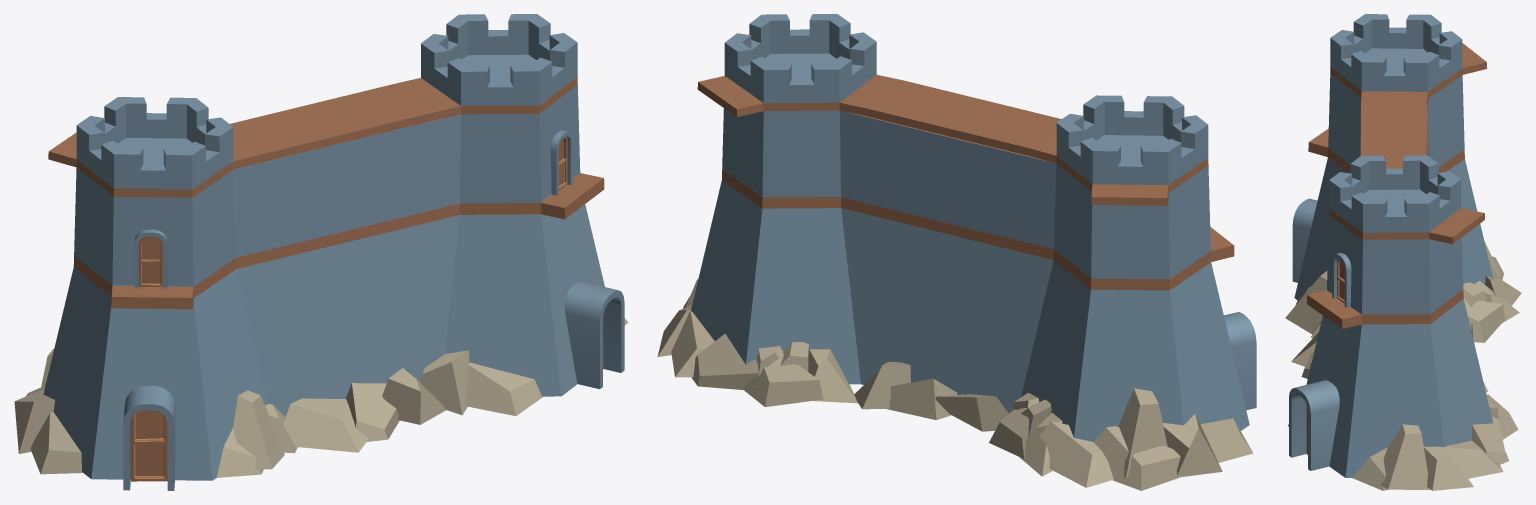
Rendered from Outpost_Twin.fbx.
3 renders of one model, left to right at view 1: azimuth 30°, elevation 25°; view 2: azimuth 150°, elevation 25°; view 3: azimuth 270°, elevation 25°, orthographic. The views are drawn at different scales.
Parts seen in each view (by area): view 1: Outpost Twin; view 2: Outpost Twin; view 3: Outpost Twin.
Boxes of the visible parts, x1,y1,x2,y2 form: Outpost Twin: (14,14,628,490); Outpost Twin: (657,14,1256,490); Outpost Twin: (1285,14,1521,490).
Bounding box in the file's own units: 1429 × 733 × 591.
